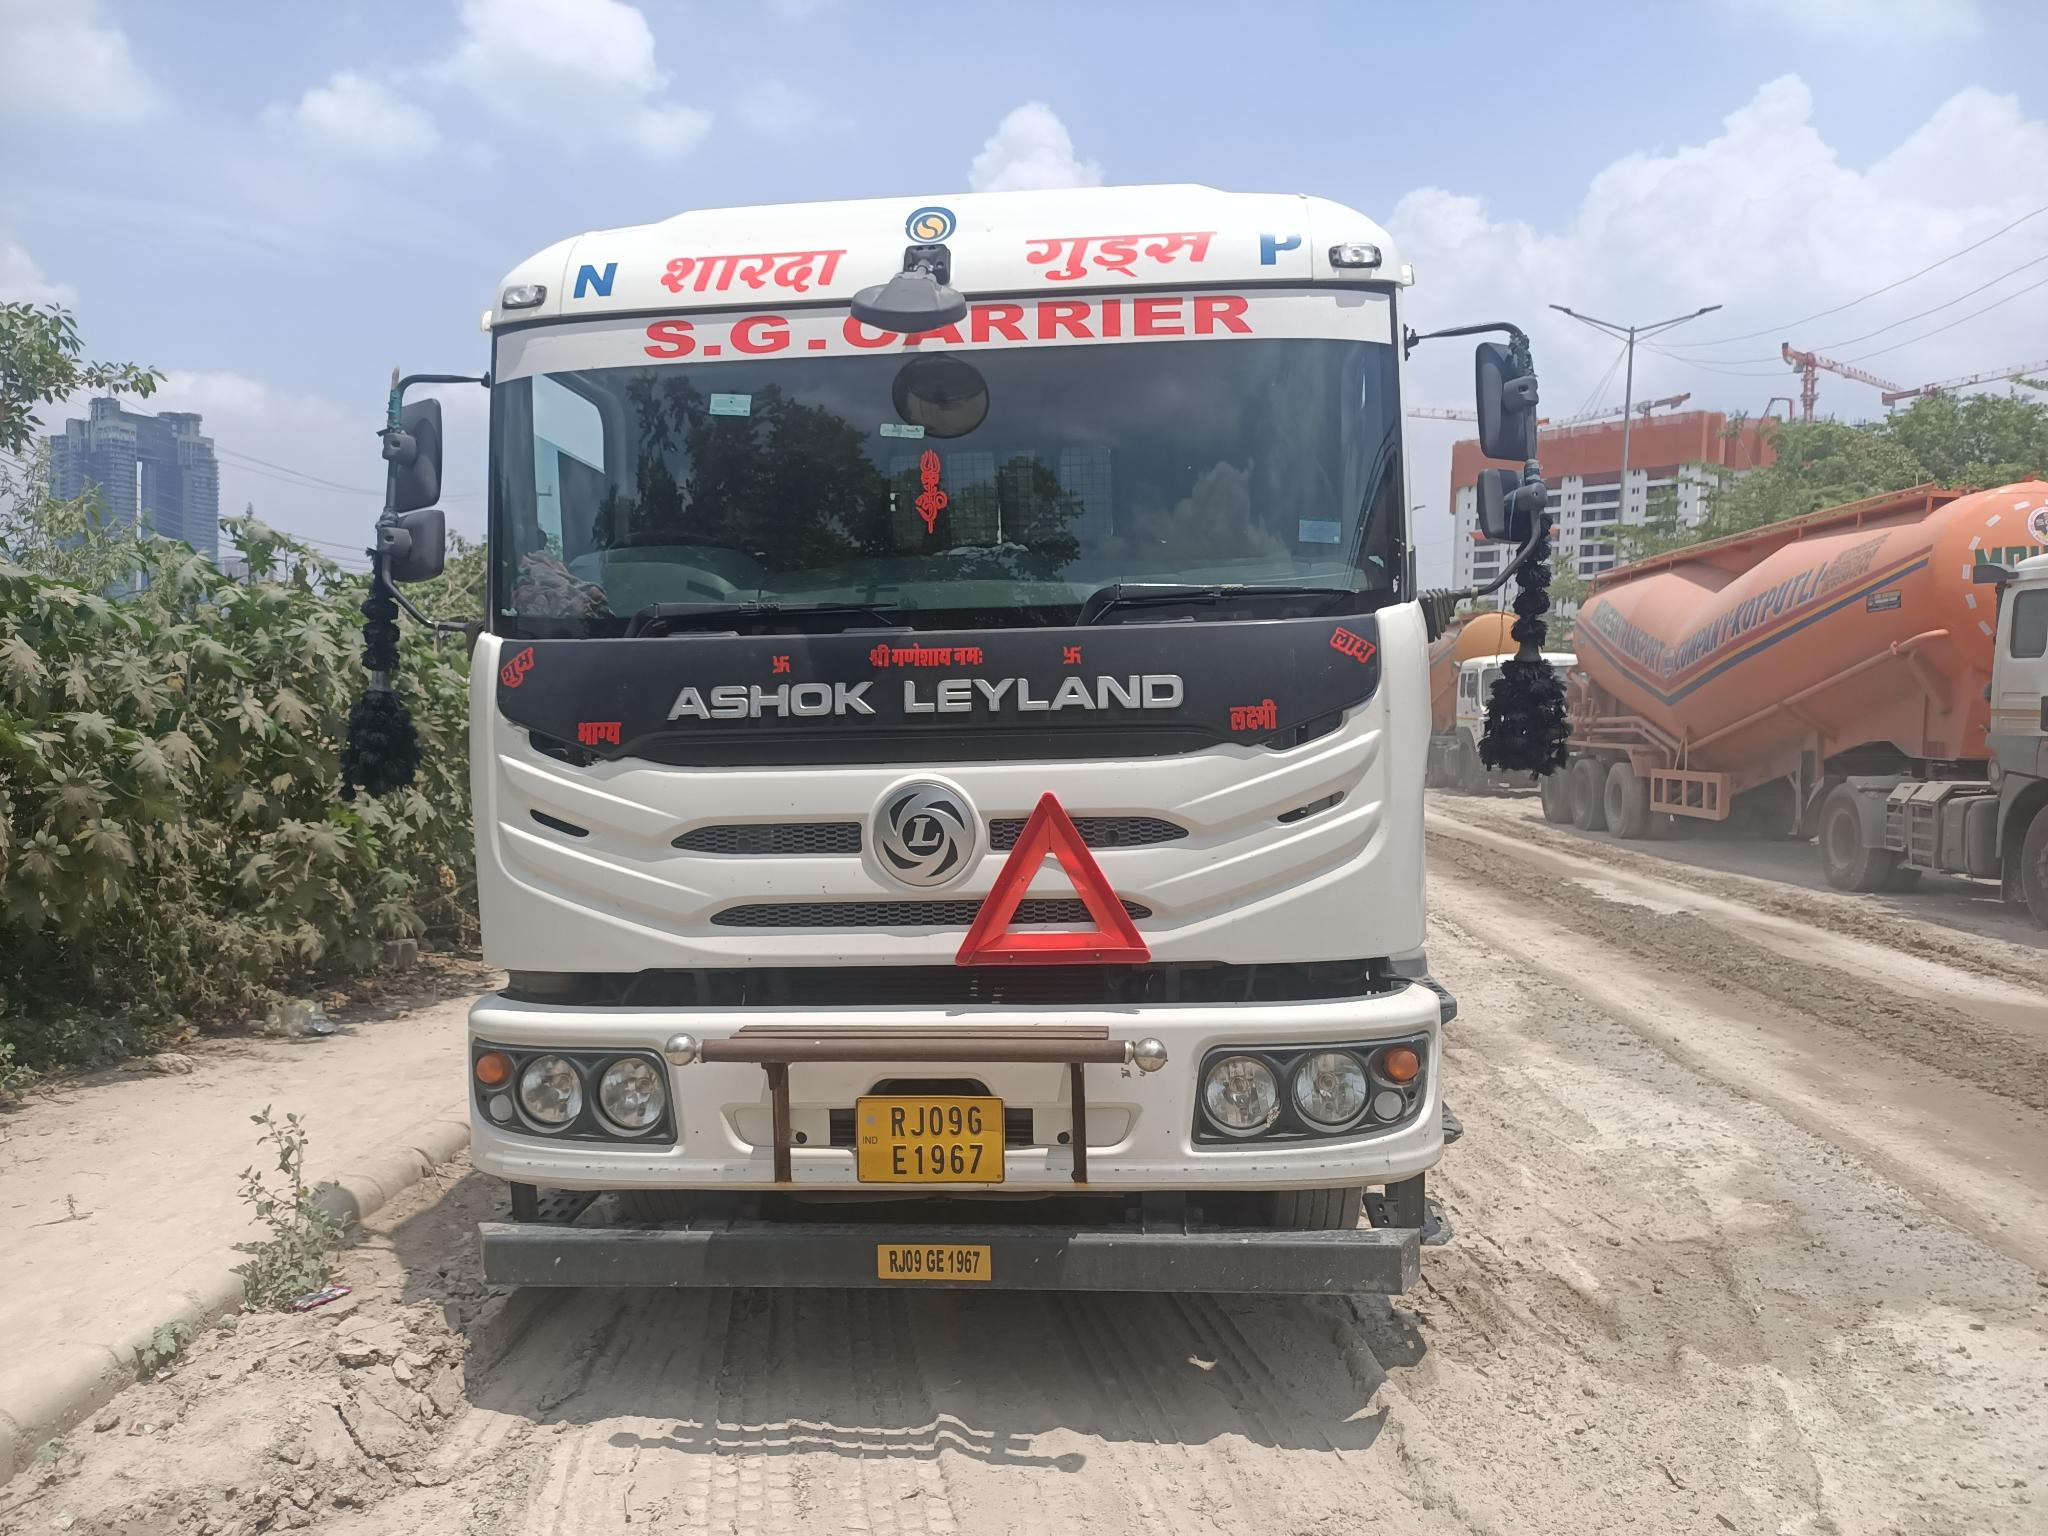FastTag: (706, 392, 760, 423)
not a FastTag: (1295, 503, 1350, 555), (877, 419, 930, 444)
